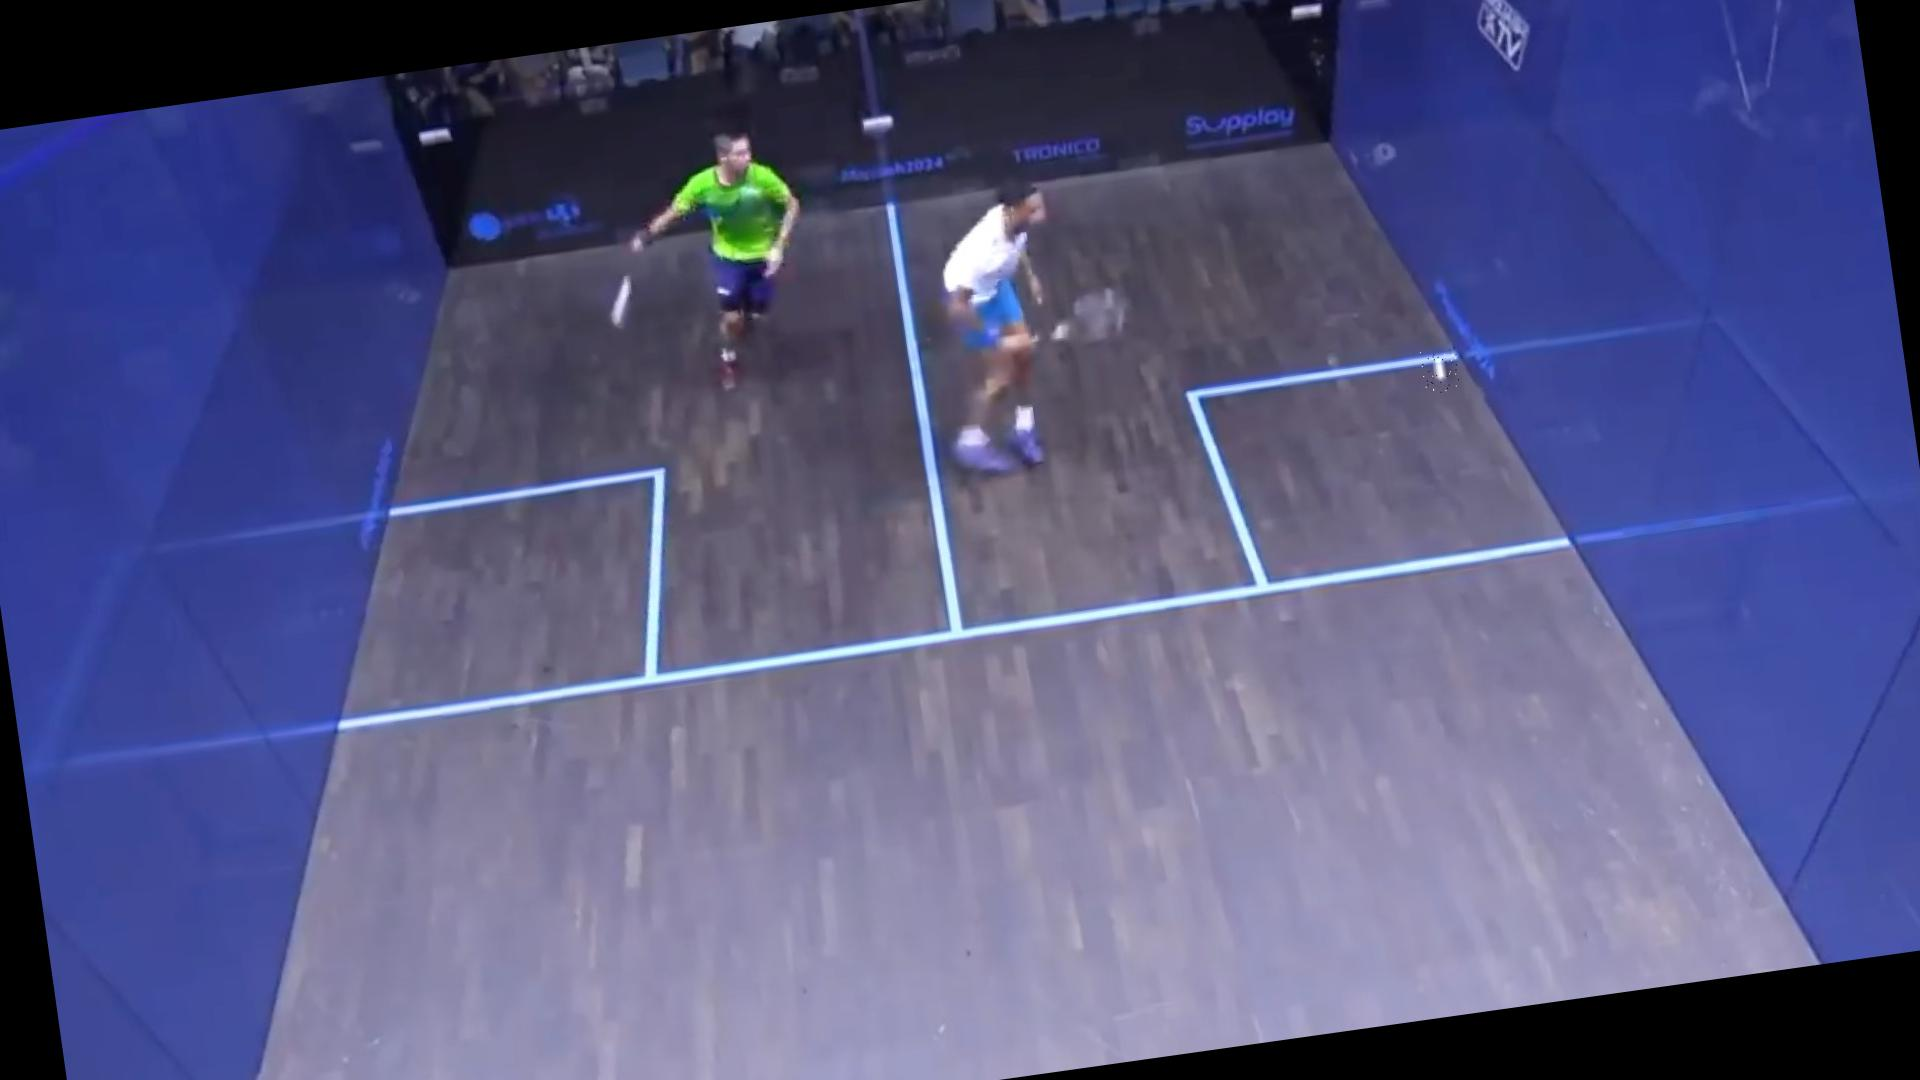Squash-Ball: (1419, 348, 1461, 398)
